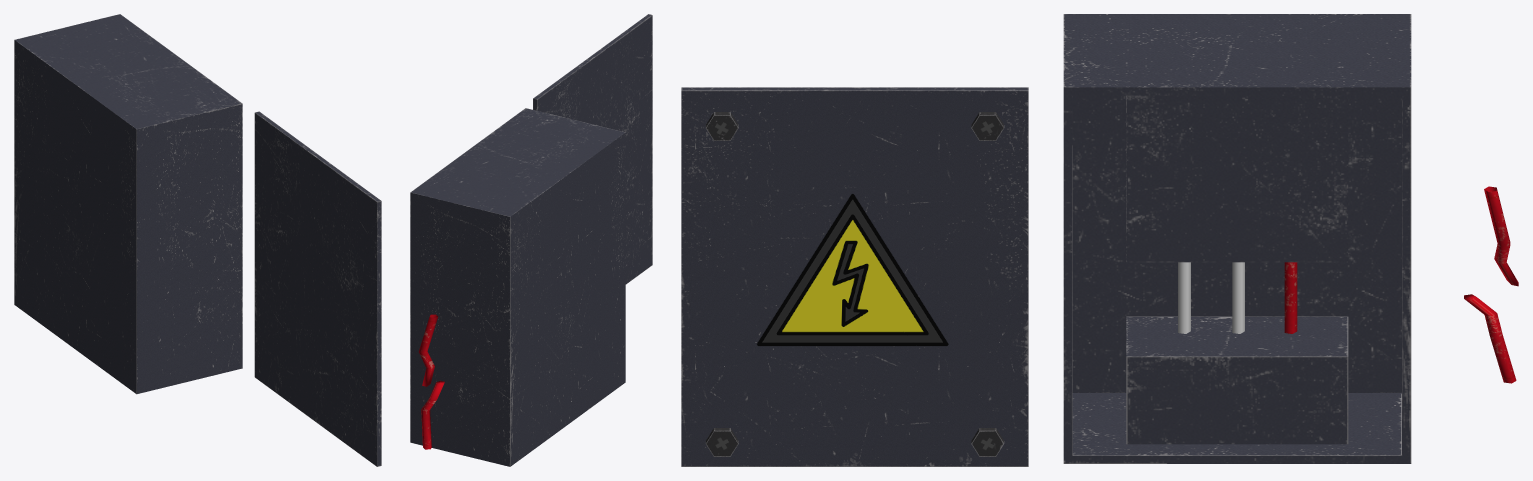
Rendered from ESH 1.fbx.
3 renders of one model, left to right at view 1: azimuth 30°, elevation 25°; view 2: azimuth 150°, elevation 25°; view 3: azimuth 270°, elevation 25°, orthographic. The views are drawn at different scales.
Parts seen in each view (by area): view 1: Cube, Cube.001; view 2: Cube, Cube.001, Circle.009; view 3: Cube, Cube.001, Circle.009, Circle.001, Circle.005, Circle.006.
Boxes of the visible parts, <box> form: Cube: <box>14,14,242,394</box>; Cube.001: <box>254,111,381,466</box>; Cube: <box>410,108,625,466</box>; Cube.001: <box>533,14,652,284</box>; Circle.009: <box>418,314,444,449</box>; Cube: <box>1063,14,1411,463</box>; Cube.001: <box>681,87,1028,466</box>; Circle.009: <box>1464,186,1518,383</box>; Circle.001: <box>1284,262,1297,333</box>; Circle.005: <box>1232,262,1244,333</box>; Circle.006: <box>1178,262,1190,333</box>.
Size of the model in its own units: 108 by 239 by 482.
Materials: 8 (6 with a texture image).
